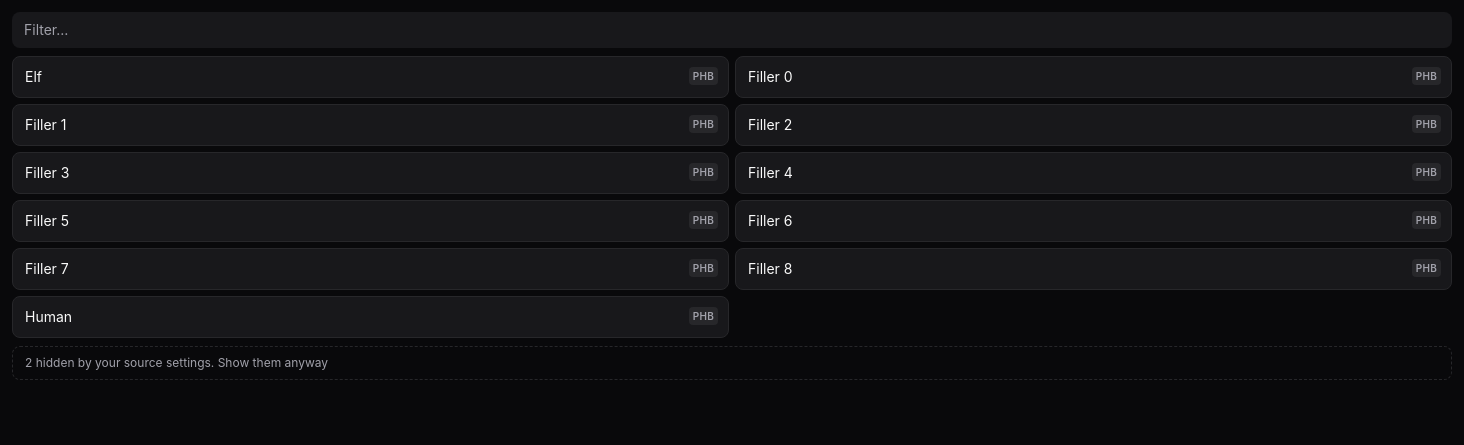
Test: EntityCardList source filtering › offers to reveal hidden entries, and to go back
This screenshot has width=1464, height=445.
What coordinates should you click on to do the following:
click the button "2 hidden by your source settings. Show them anyway"
I would click on:
 (177, 362)
Its box is [12,346,1452,380].
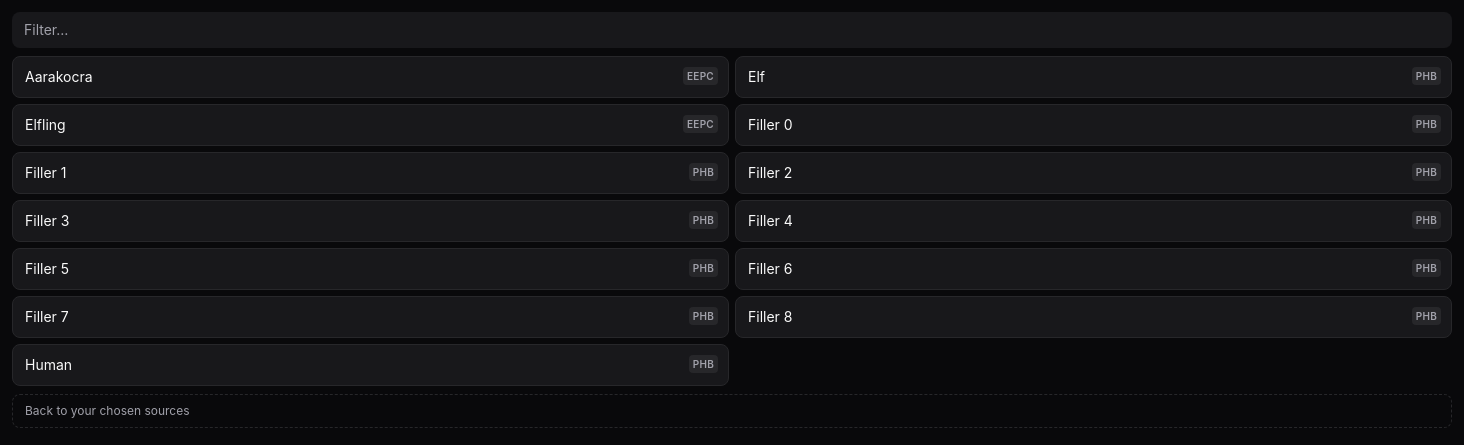
Expected: the button "Aarakocra" is shown, [13,57,683,97]
What coordinates should you click on to do the following:
click the button "Back to your chosen sources"
I would click on:
 (107, 410)
Its box is [12,394,1452,428].
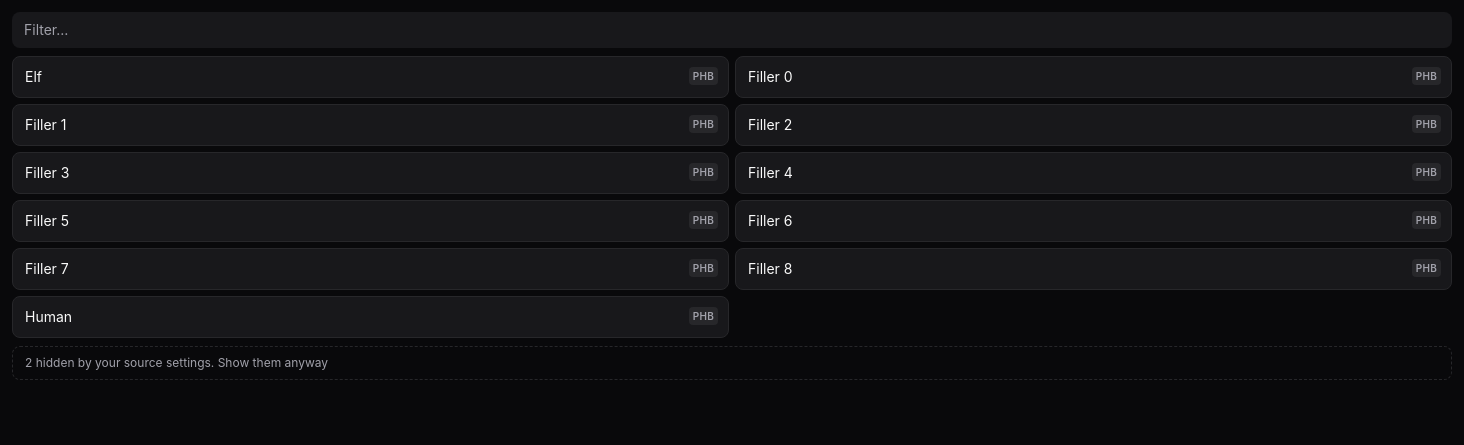
Expected: the button "Aarakocra" is gone
